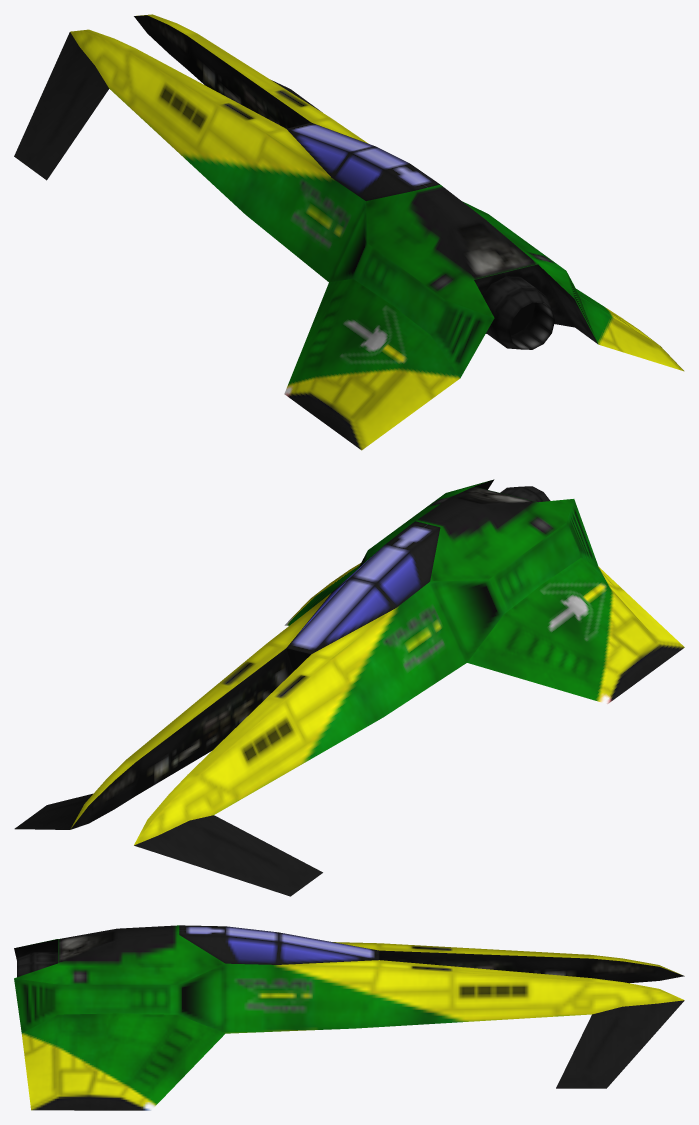
The model's file is Caliburn.FBX.
3 views of the same model, one above another, from view 1: azimuth 30°, elevation 25°; view 2: azimuth 150°, elevation 25°; view 3: azimuth 270°, elevation 25° (orthographic). The views are drawn at different scales.
Parts seen in each view (by area): view 1: Caliburn; view 2: Caliburn; view 3: Caliburn.
Boxes of the visible parts, bbox=[...] form: Caliburn: bbox=[14, 14, 684, 450]; Caliburn: bbox=[14, 479, 684, 896]; Caliburn: bbox=[14, 925, 684, 1110].
Bounding box in the file's own units: 5.52 × 2.51 × 12.8.
